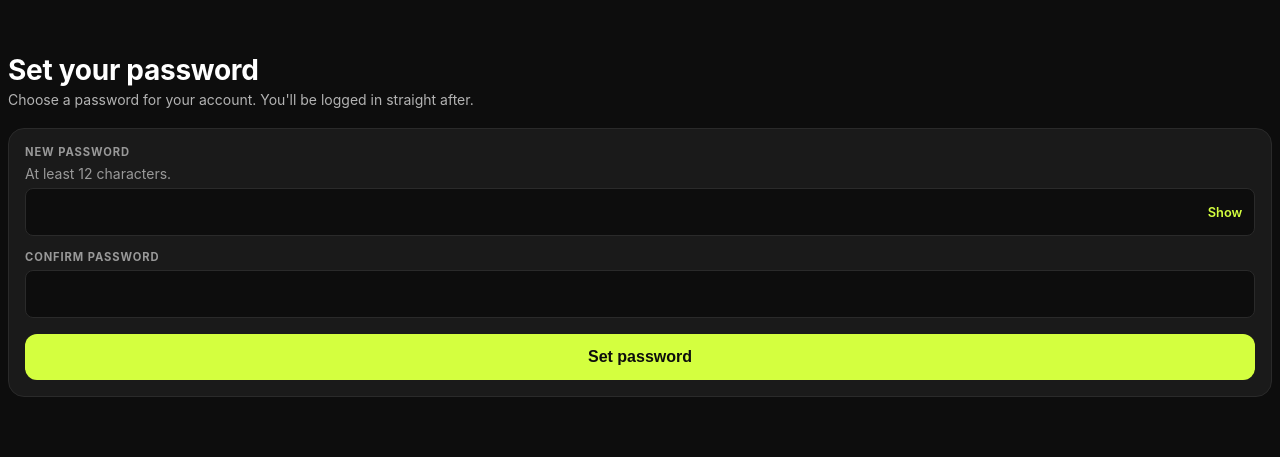
it: SetPassword › shows the API's length rule when the password is too short
Type "short" into the password field labelled "New password" at (640, 212), box [25,188,1255,236]
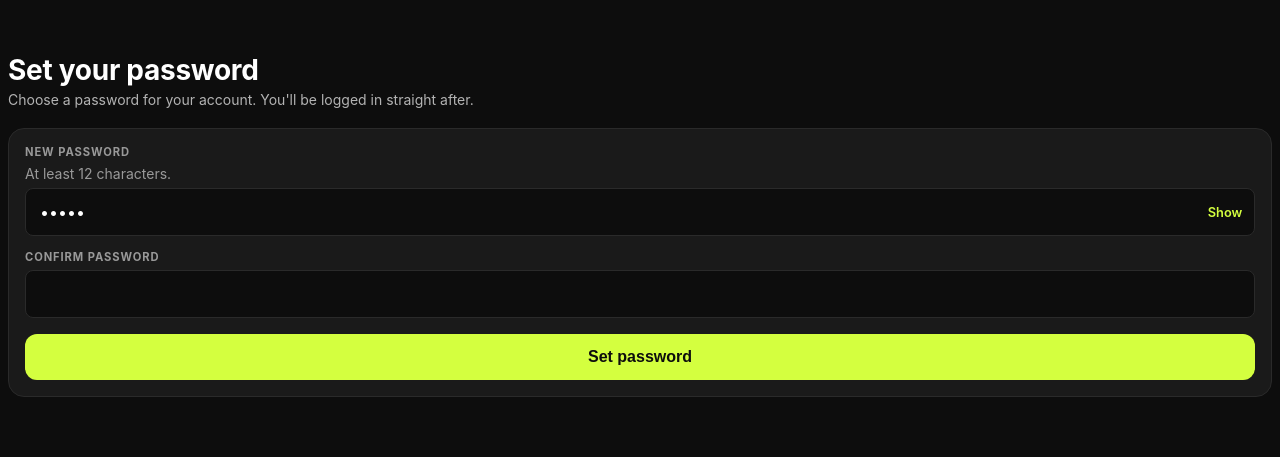
Type "short" into the password field labelled "Confirm password" at (640, 294), box [25,270,1255,318]
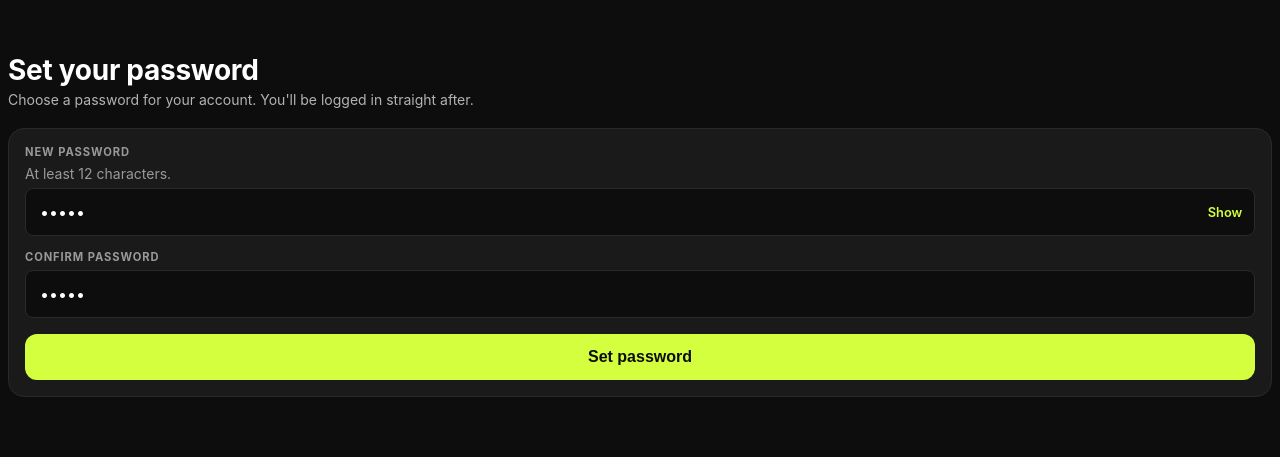
Click the button "Set password" at (640, 357), box [25,334,1255,380]
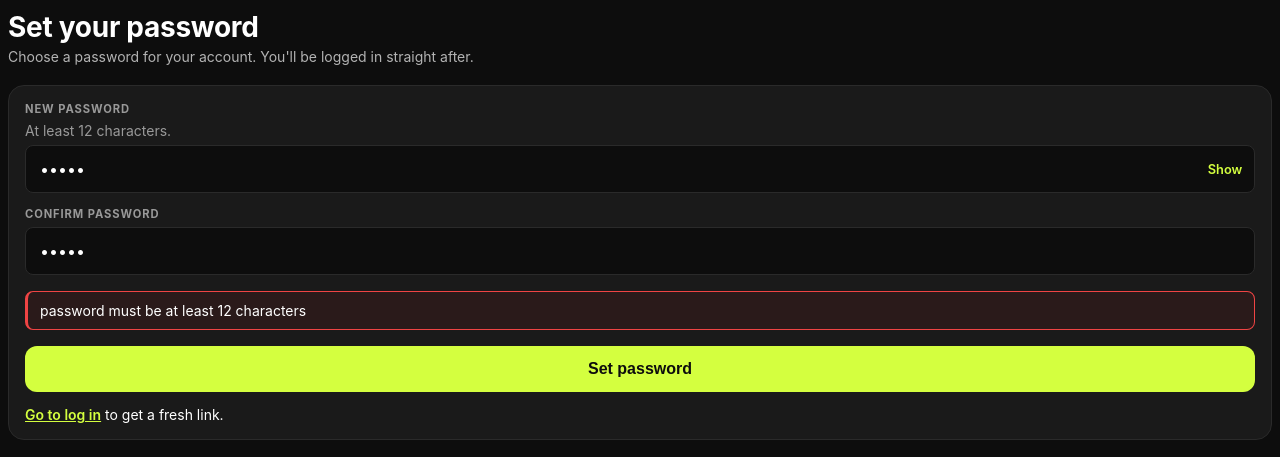
Result: the message reads "password must be at least 12 characters" at [40,302,306,319]
